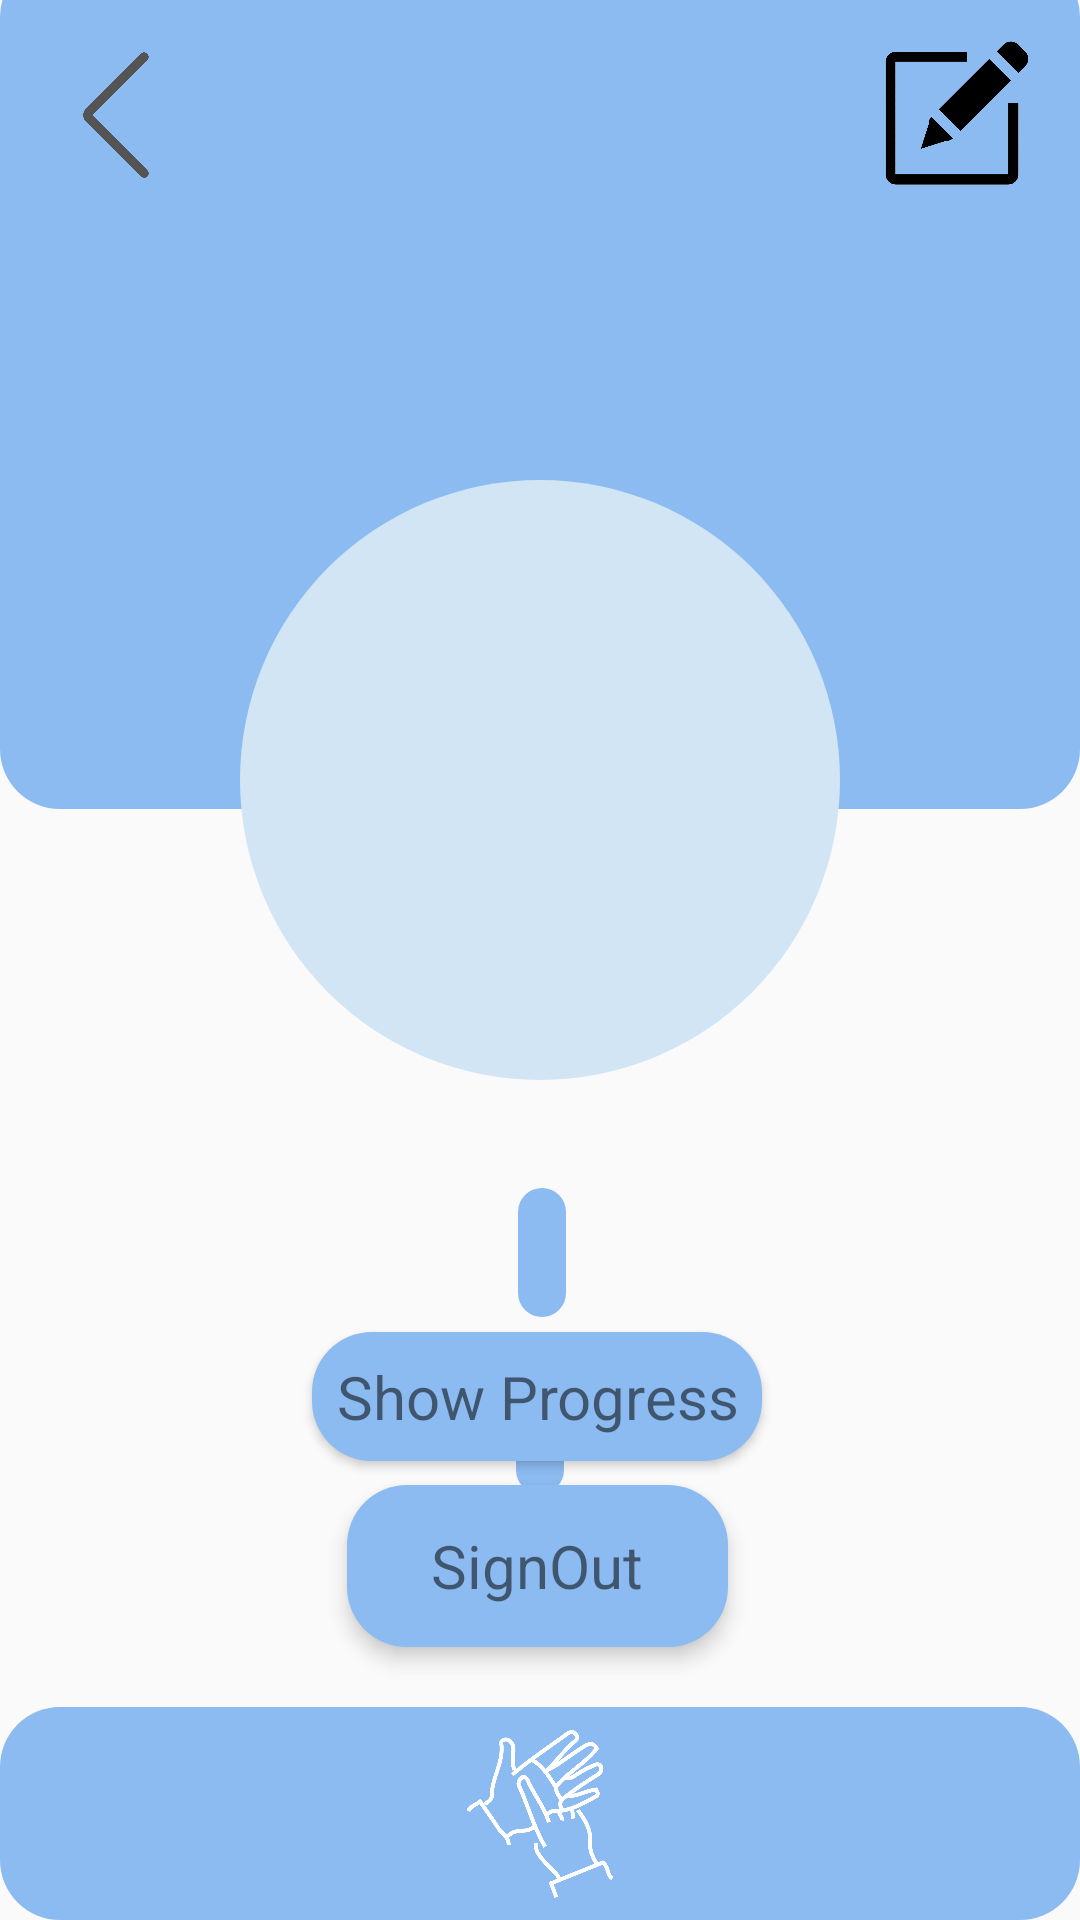

Named icons in this screenshot (1080 x 1920) and their centers, (x,y):
back: (116,115)
edit: (956,113)
